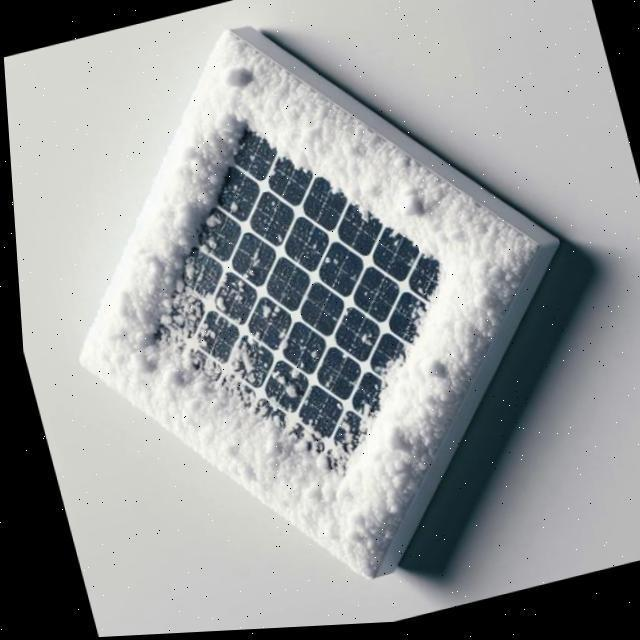Anomaly Solar Panel: (31, 29, 556, 584)
Snow: (34, 30, 555, 584), (129, 129, 447, 441)
